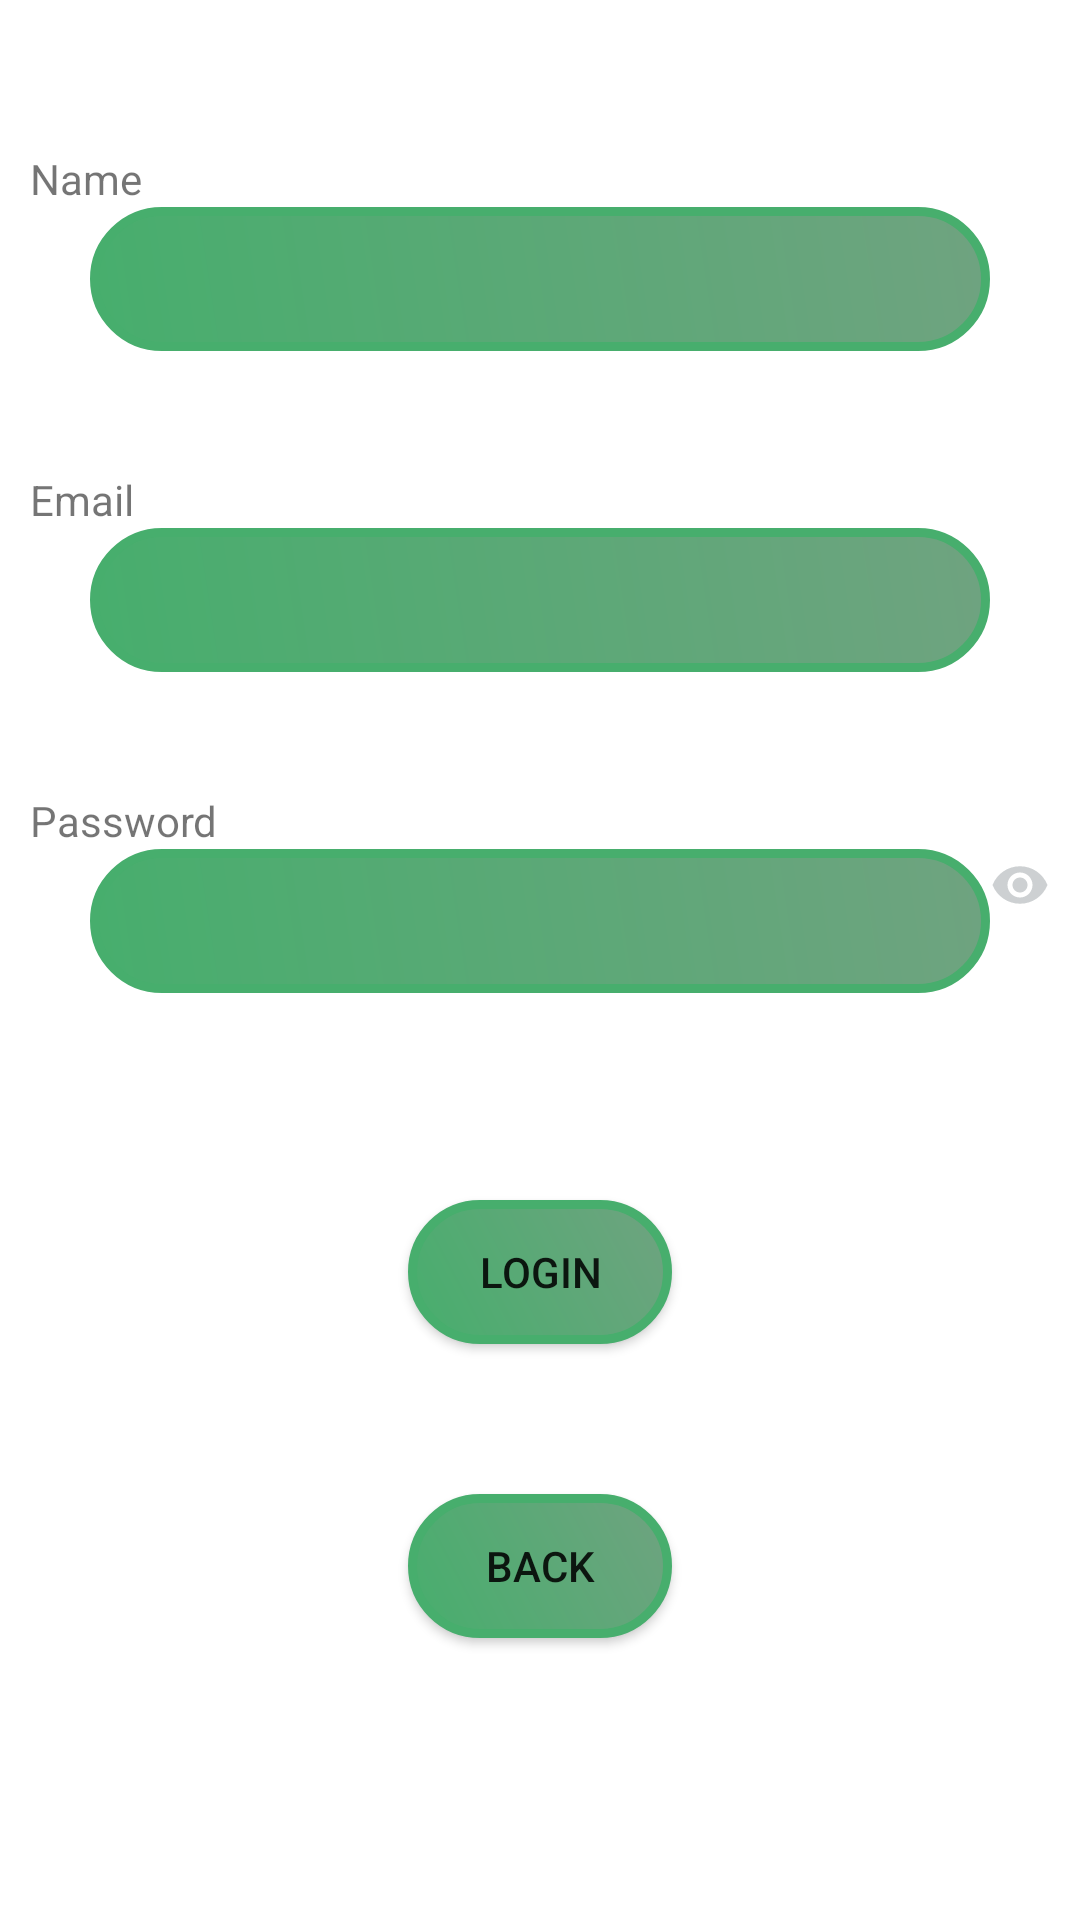

Point at icon controls on the screen. Image size 1080px x 1920px, points as (x=x, y=y).
eye: (x=1020, y=885)
